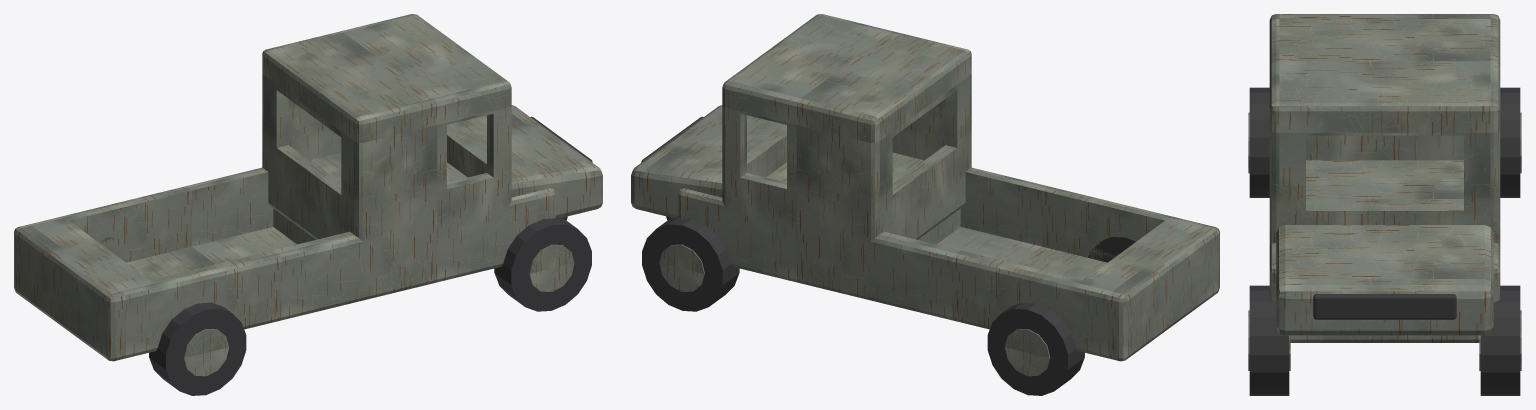
The model's file is pickup.glb.
3 views of the same model, side by side, from view 1: azimuth 30°, elevation 25°; view 2: azimuth 150°, elevation 25°; view 3: azimuth 270°, elevation 25° (orthographic). The views are drawn at different scales.
Parts seen in each view (by area): view 1: pickup; view 2: pickup; view 3: pickup.
Part boxes in pixels (x1,y1,x2,y2): pickup: (14,14,602,395); pickup: (631,14,1219,395); pickup: (1248,14,1521,395).
Size of the model in its own units: 5.16 by 2.25 by 2.07.
2 materials, 1 textured.
